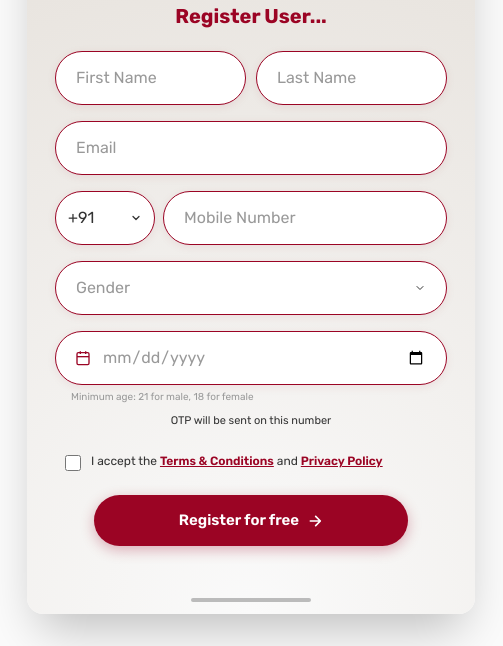
Test: RegisterUser – Step 1 form › shows validation errors when submitting an empty form
(page scrolled)
Click the button "Register for free" at (251, 521), box [94,495,408,546]
(page scrolled)
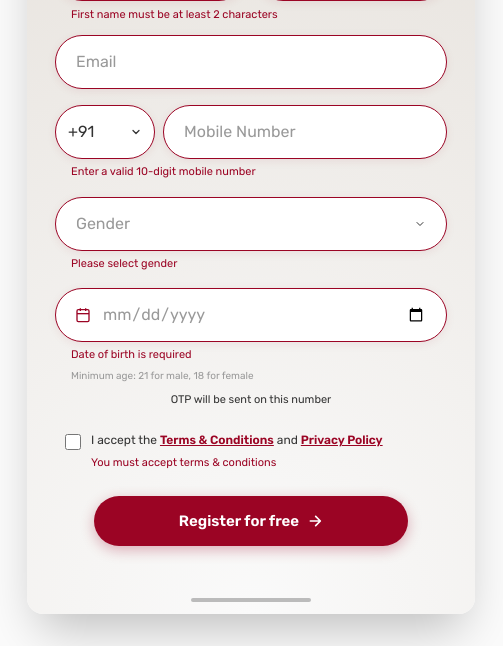
Result: the text "First name must be at least 2 characters" is shown at [71,8,278,21]
